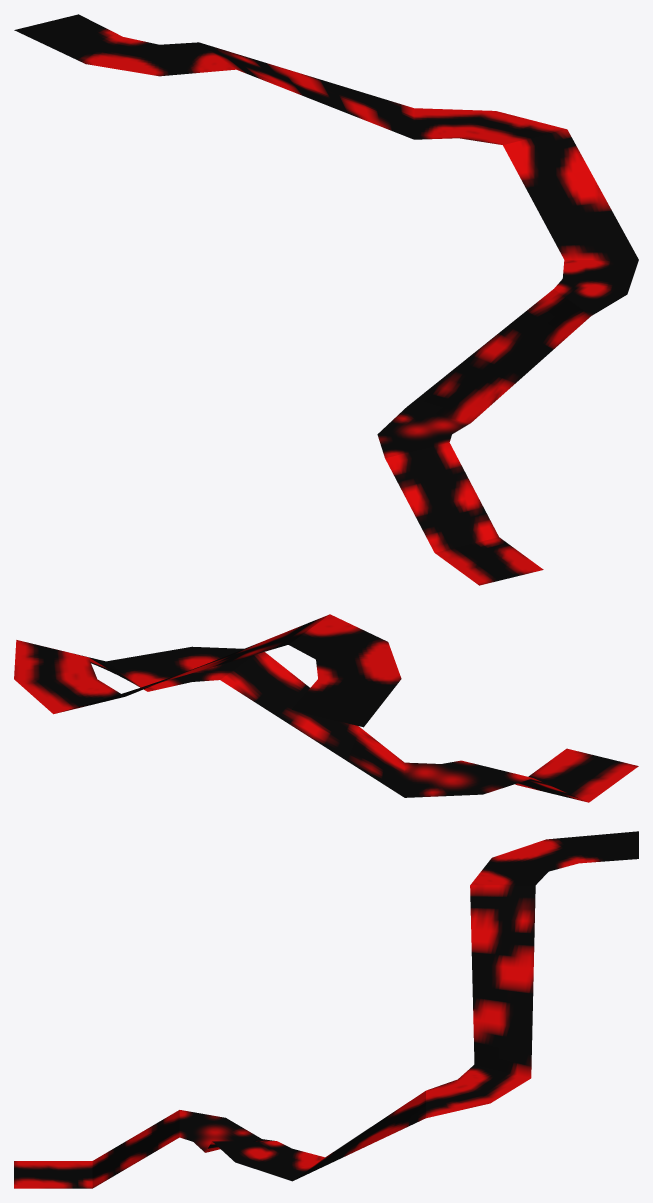
File: WetGround.FBX
3 renders of one model, top to bottom at view 1: azimuth 30°, elevation 25°; view 2: azimuth 150°, elevation 25°; view 3: azimuth 270°, elevation 25°, orthographic. The views are drawn at different scales.
Parts seen in each view (by area): view 1: Plane001; view 2: Plane001; view 3: Plane001.
Part boxes in pixels (left/top/right/bottom): Plane001: left=14, top=14, right=638, bottom=585; Plane001: left=14, top=614, right=638, bottom=802; Plane001: left=14, top=831, right=638, bottom=1188.
Size of the model in its own units: 93.28 by 66.39 by 133.
